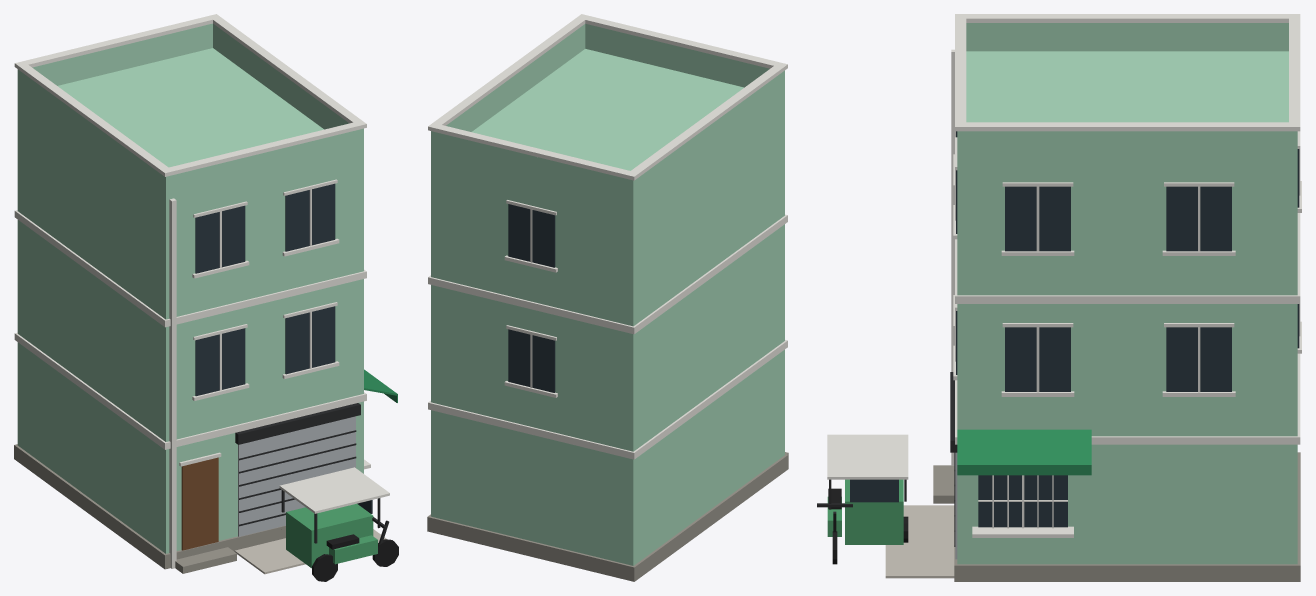
Rendered from BAY_F_Corner_I.glb.
3 views of the same model, side by side, from view 1: azimuth 30°, elevation 25°; view 2: azimuth 150°, elevation 25°; view 3: azimuth 270°, elevation 25° (orthographic). The views are drawn at different scales.
Parts seen in each view (by area): view 1: BAY_F_Corner_I; view 2: BAY_F_Corner_I; view 3: BAY_F_Corner_I.
Part boxes in pixels (x1,y1,x2,y2): BAY_F_Corner_I: (14, 14, 398, 581); BAY_F_Corner_I: (427, 14, 788, 581); BAY_F_Corner_I: (817, 14, 1301, 581).
Size of the model in its own units: 5.2 by 8.4 by 8.12.
Materials: 1 (1 with a texture image).
